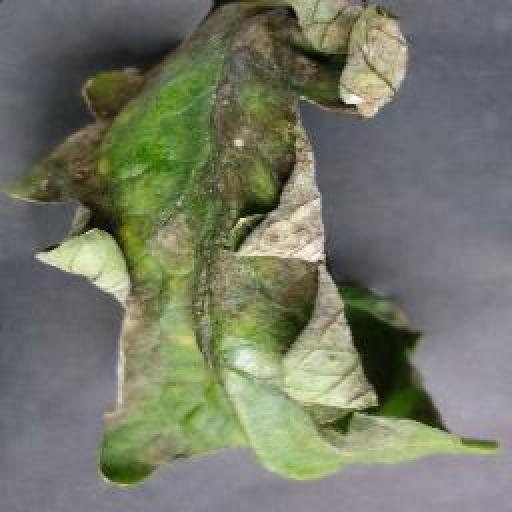Late Blight: (0, 0, 503, 491)
